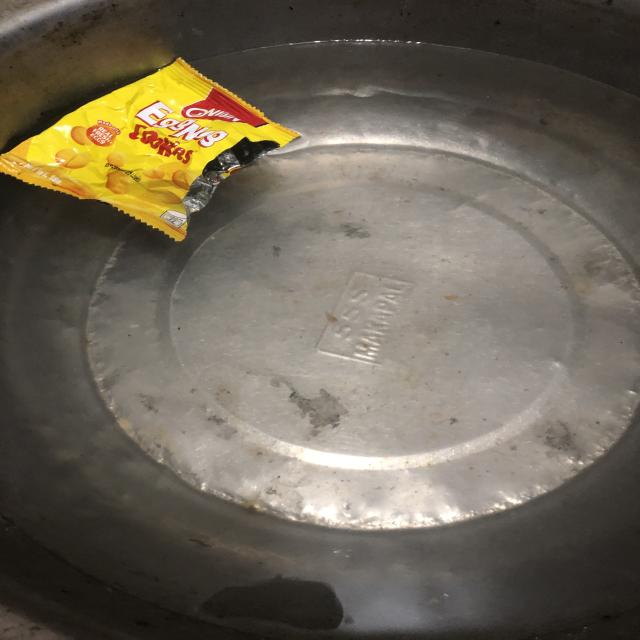Plastic Wrapper: (0, 28, 345, 250)
